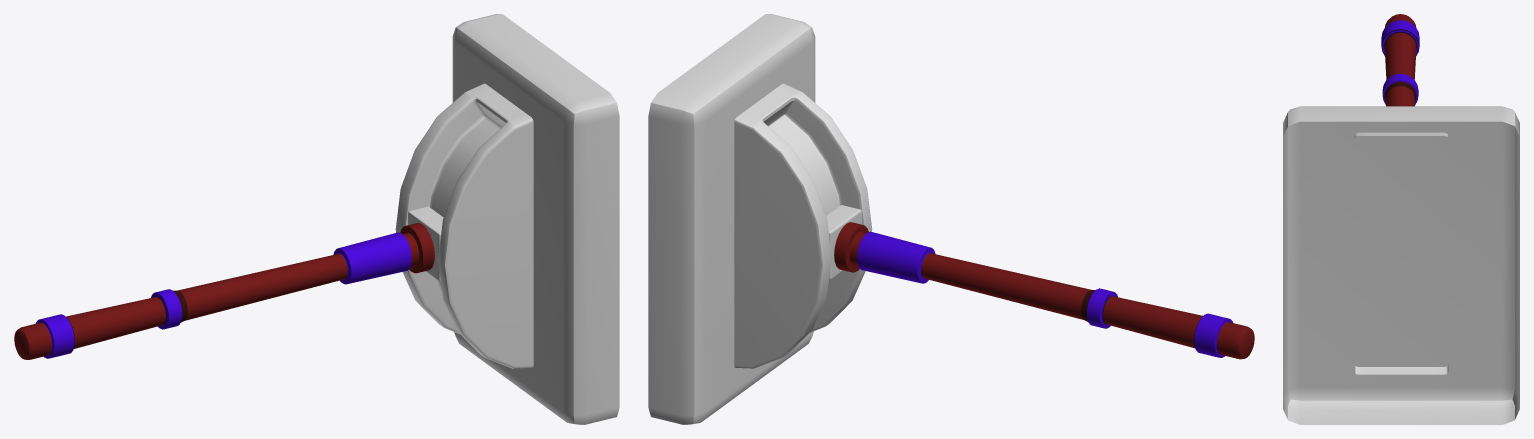
The model's file is Lever.fbx.
3 views of the same model, side by side, from view 1: azimuth 30°, elevation 25°; view 2: azimuth 150°, elevation 25°; view 3: azimuth 270°, elevation 25° (orthographic). The views are drawn at different scales.
Visible parts, largest first — view 1: polySurface5, polySurface4; view 2: polySurface5, polySurface4; view 3: polySurface5, polySurface4.
Boxes of the visible parts, x1,y1,x2,y2 form: polySurface5: (395,14,619,424); polySurface4: (14,222,434,359); polySurface5: (648,14,872,424); polySurface4: (834,222,1254,359); polySurface5: (1283,106,1519,424); polySurface4: (1381,14,1419,106).
Bounding box in the file's own units: 3.23 × 1.86 × 1.32.
